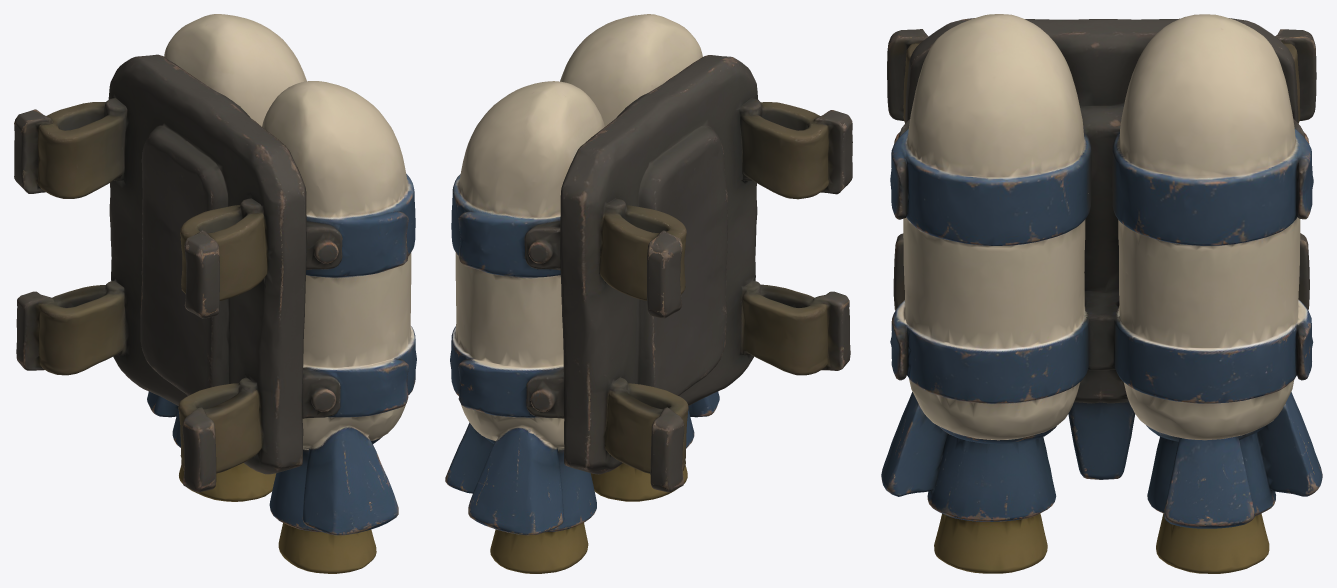
Rendered from jetpack_rocket_tripo_raw.glb.
The picture shows the model from 3 angles, left to right: view 1: azimuth 30°, elevation 25°; view 2: azimuth 150°, elevation 25°; view 3: azimuth 270°, elevation 25°; orthographic projection. The views are drawn at different scales.
Parts seen in each view (by area): view 1: tripo_node_f3b6196b-c7a9-413e-af0c-6c4757a78cf7; view 2: tripo_node_f3b6196b-c7a9-413e-af0c-6c4757a78cf7; view 3: tripo_node_f3b6196b-c7a9-413e-af0c-6c4757a78cf7.
Part boxes in pixels (x1,y1,x2,y2): tripo_node_f3b6196b-c7a9-413e-af0c-6c4757a78cf7: [14, 14, 416, 573]; tripo_node_f3b6196b-c7a9-413e-af0c-6c4757a78cf7: [445, 14, 852, 573]; tripo_node_f3b6196b-c7a9-413e-af0c-6c4757a78cf7: [881, 14, 1322, 573].
Size of the model in its own units: 0.5745 by 1 by 0.7514.
1 material, 1 textured.
